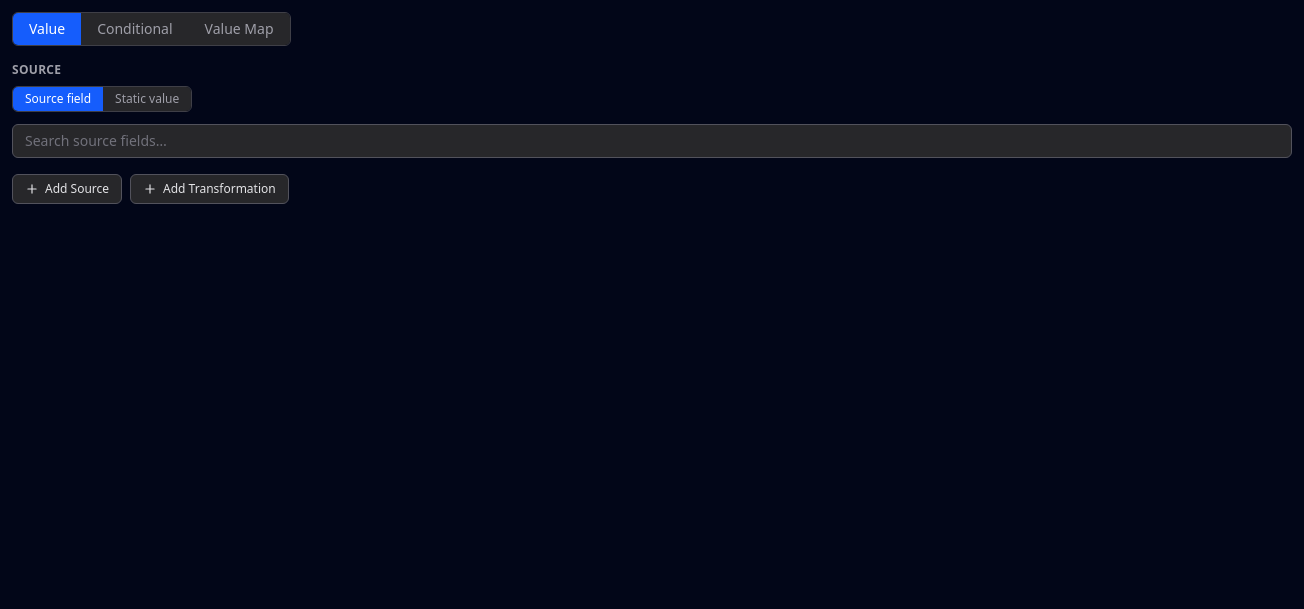
Test case: T-09 — AE-03: Add Transformation from empty state › clicking [+ Add Transformation] opens the function picker
Click the button with test id "builder-add-transform-btn".
click(209, 189)  # box [130, 174, 289, 204]
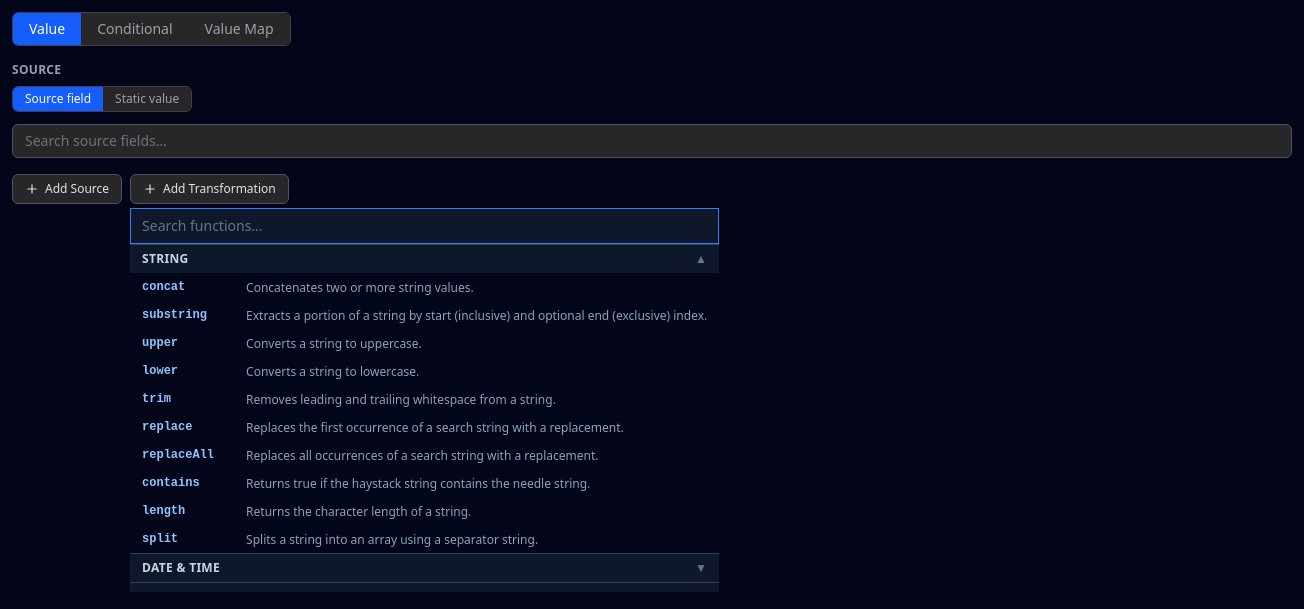
Expected: the element with test id "transform-function-picker" is shown, [130, 208, 719, 592]
